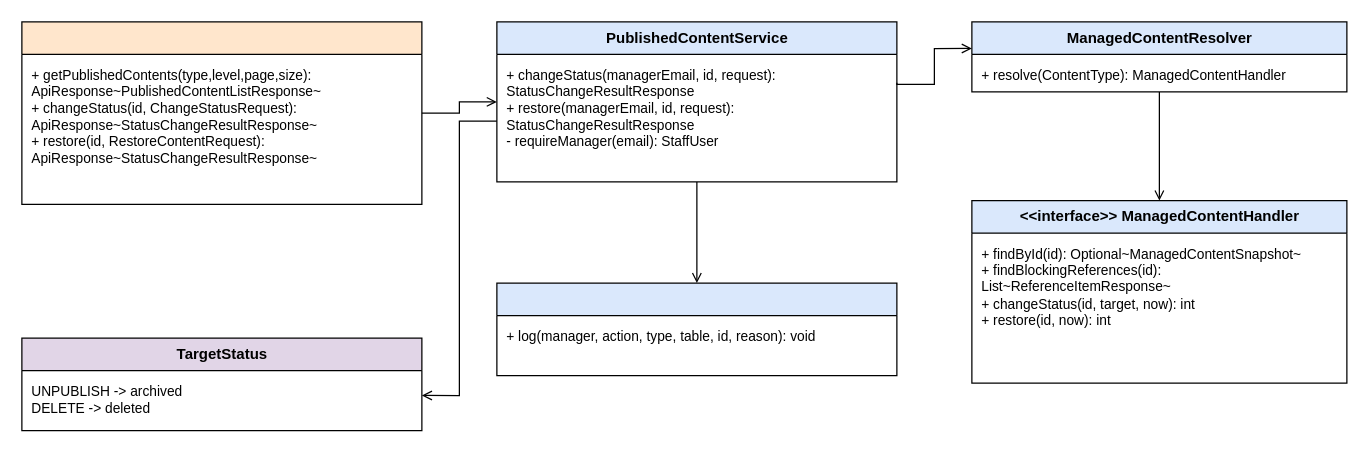
The diagram is 1369 pixels wide and 456 high, and some of its shapes have lost their labels. Here are the shapes that lost their labels. From the top down, the box of each, then its label:
(21, 21, 422, 204): PublishedContentController
(496, 282, 897, 376): ReviewAuditService
